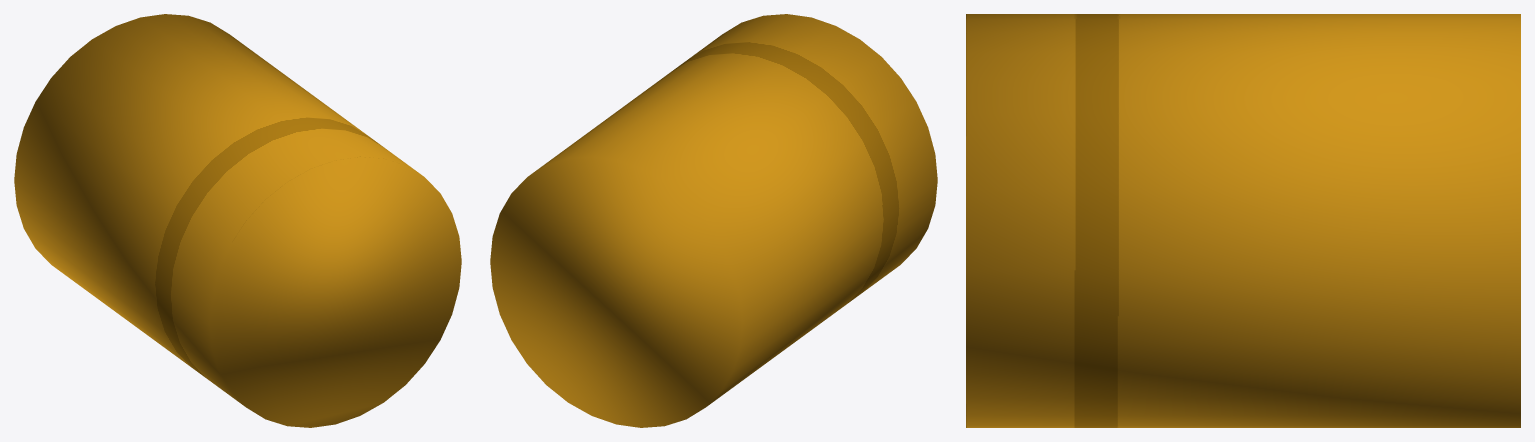
Rendered from bullet.obj.
3 renders of one model, left to right at view 1: azimuth 30°, elevation 25°; view 2: azimuth 150°, elevation 25°; view 3: azimuth 270°, elevation 25°, orthographic. The views are drawn at different scales.
Parts seen in each view (by area): view 1: Cylinder; view 2: Cylinder; view 3: Cylinder.
Part boxes in pixels (bbox=[...]): Cylinder: bbox=[14, 14, 461, 427]; Cylinder: bbox=[490, 14, 937, 427]; Cylinder: bbox=[966, 14, 1520, 427].
Bounding box in the file's own units: 0.932 × 0.932 × 1.25.
1 material, 1 textured.
